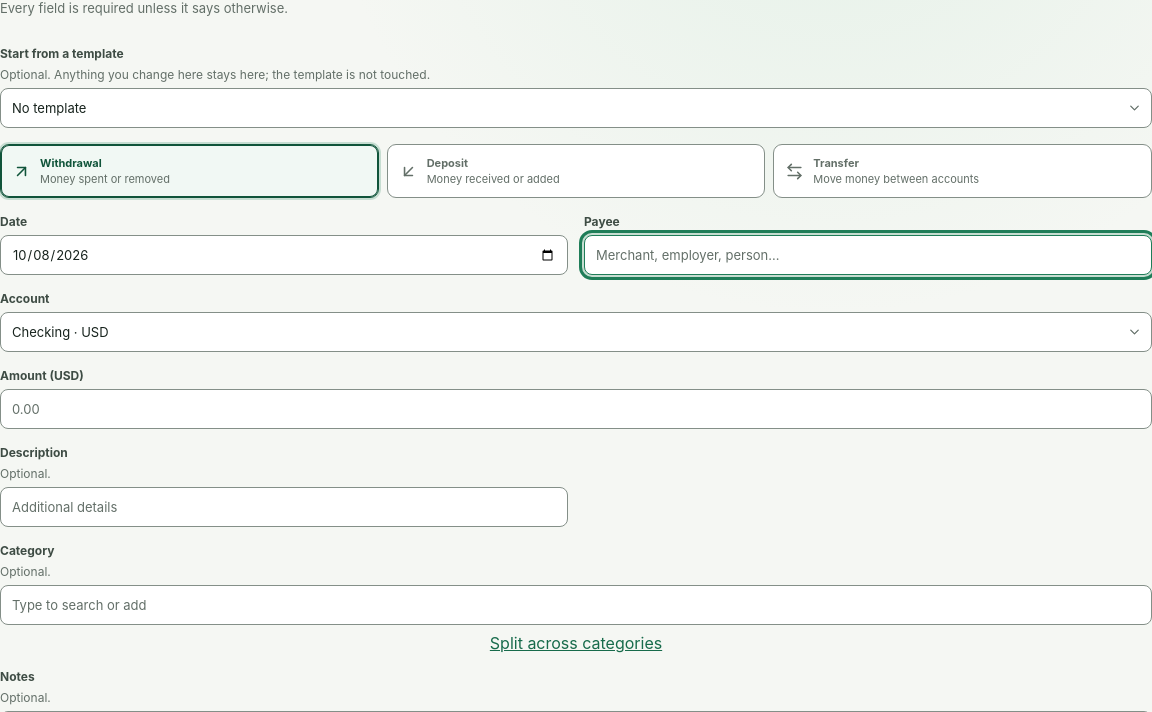
starting a transaction from a template › drops an account that is no longer available, and says so
Step 1. Select "Old account" in the dropdown labelled "Start from a template" → (576, 108), box [0,88,1151,128]
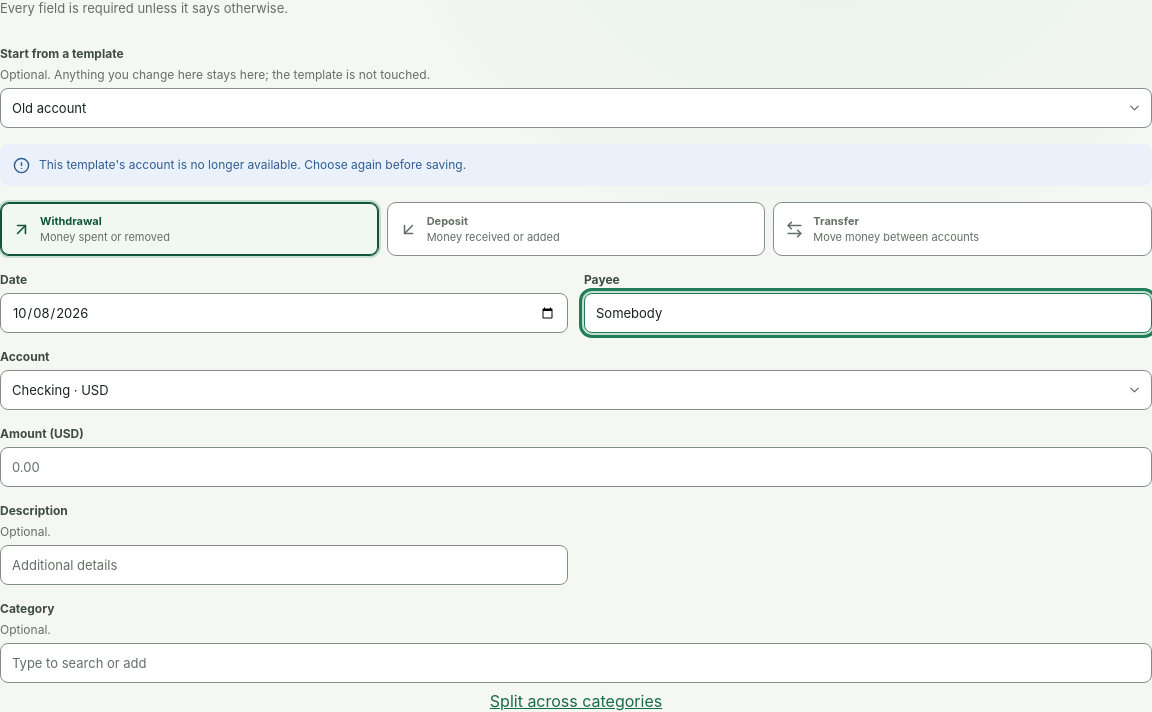
Expected: the dropdown labelled "Account" shows "Checking · USD", [0,370,1151,410]
Expected: the text "account is no longer available" is shown, [39,157,466,172]
